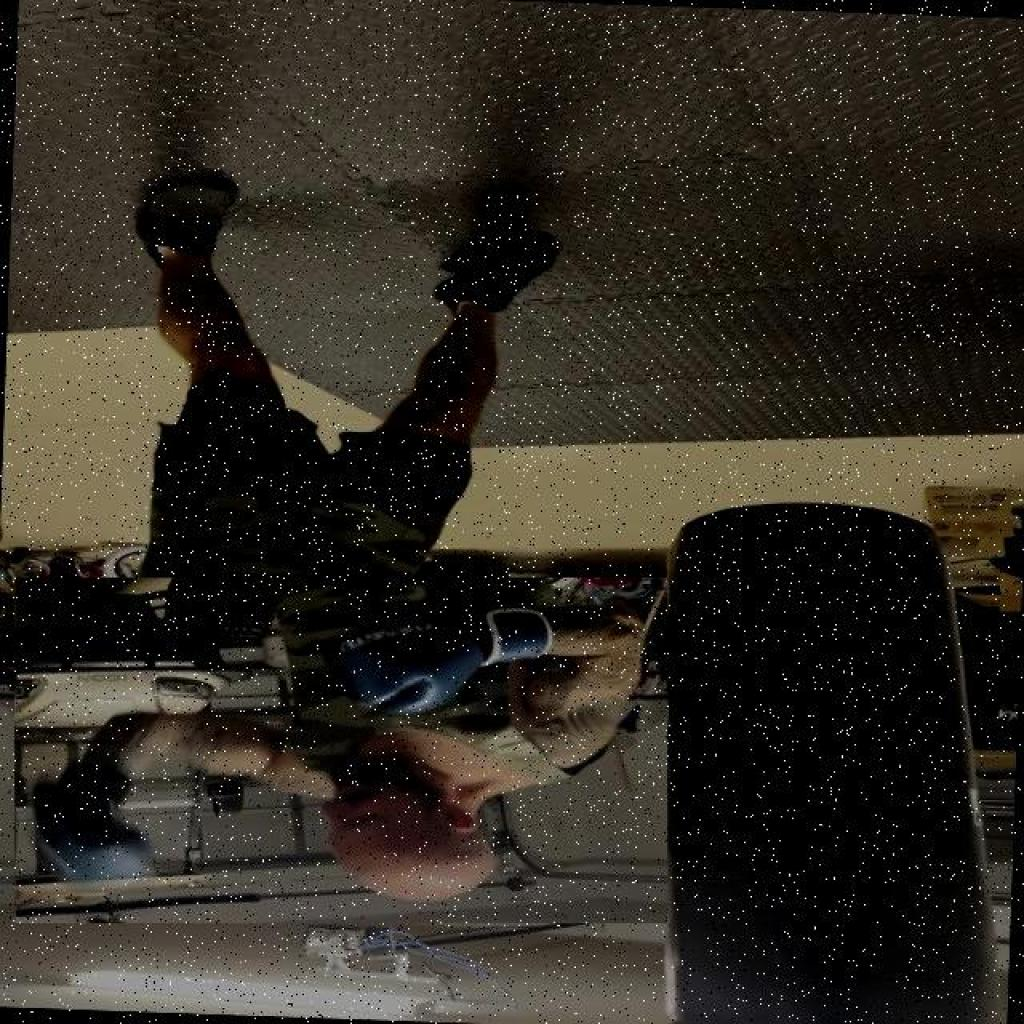bag: (650, 491, 1008, 1024)
uppercut: (14, 578, 668, 923)
